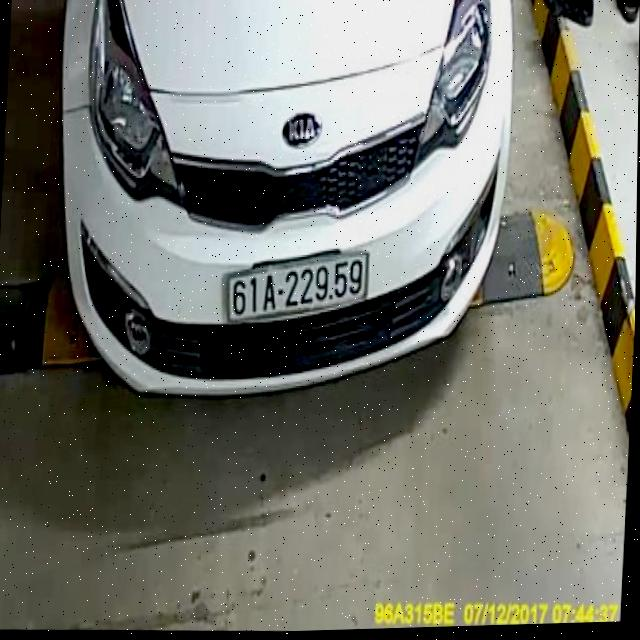car: (33, 0, 524, 422)
plate: (218, 244, 372, 331)
